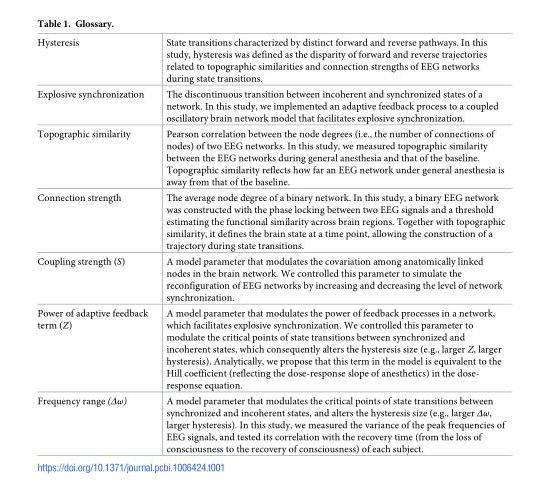table: (36, 37, 504, 453)
table column: (156, 37, 504, 453), (36, 37, 156, 453)
table row: (36, 305, 504, 391), (36, 125, 504, 189), (36, 189, 504, 252), (36, 391, 504, 453), (36, 252, 504, 305), (36, 37, 504, 86), (36, 86, 504, 125)
